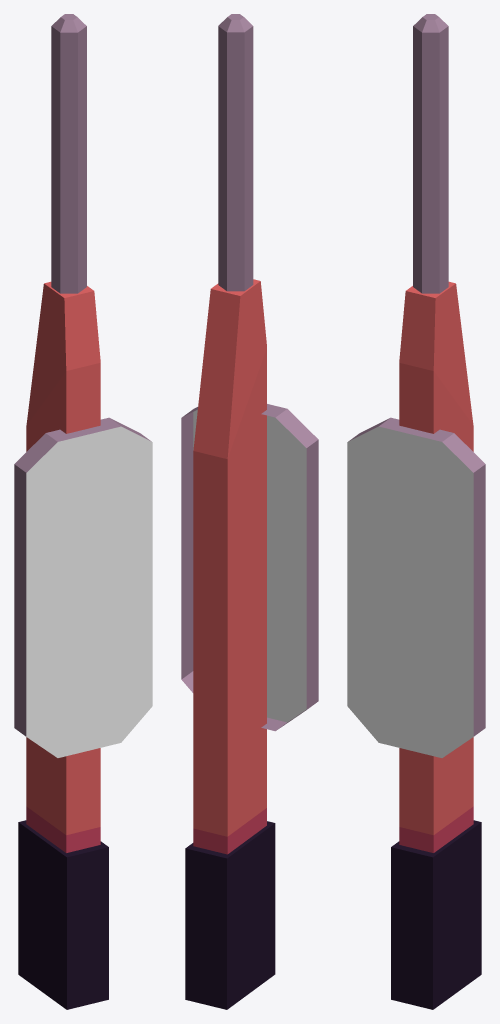
File: lever_body.obj
3 renders of one model, left to right at view 1: azimuth 30°, elevation 25°; view 2: azimuth 150°, elevation 25°; view 3: azimuth 330°, elevation 25°, orthographic.
Visible parts, largest first — view 1: lever_sign, lever_body; view 2: lever_body, lever_sign; view 3: lever_sign, lever_body.
Boxes of the visible parts, x1,y1,x2,y2 form: lever_sign: (14, 417, 152, 757); lever_body: (18, 14, 108, 1009); lever_body: (185, 14, 275, 1009); lever_sign: (181, 404, 318, 731); lever_sign: (347, 417, 485, 757); lever_body: (391, 14, 481, 1009).
Size of the model in its own units: 0.1875 by 1.38 by 0.1293.
Materials: 2 (2 with a texture image).
